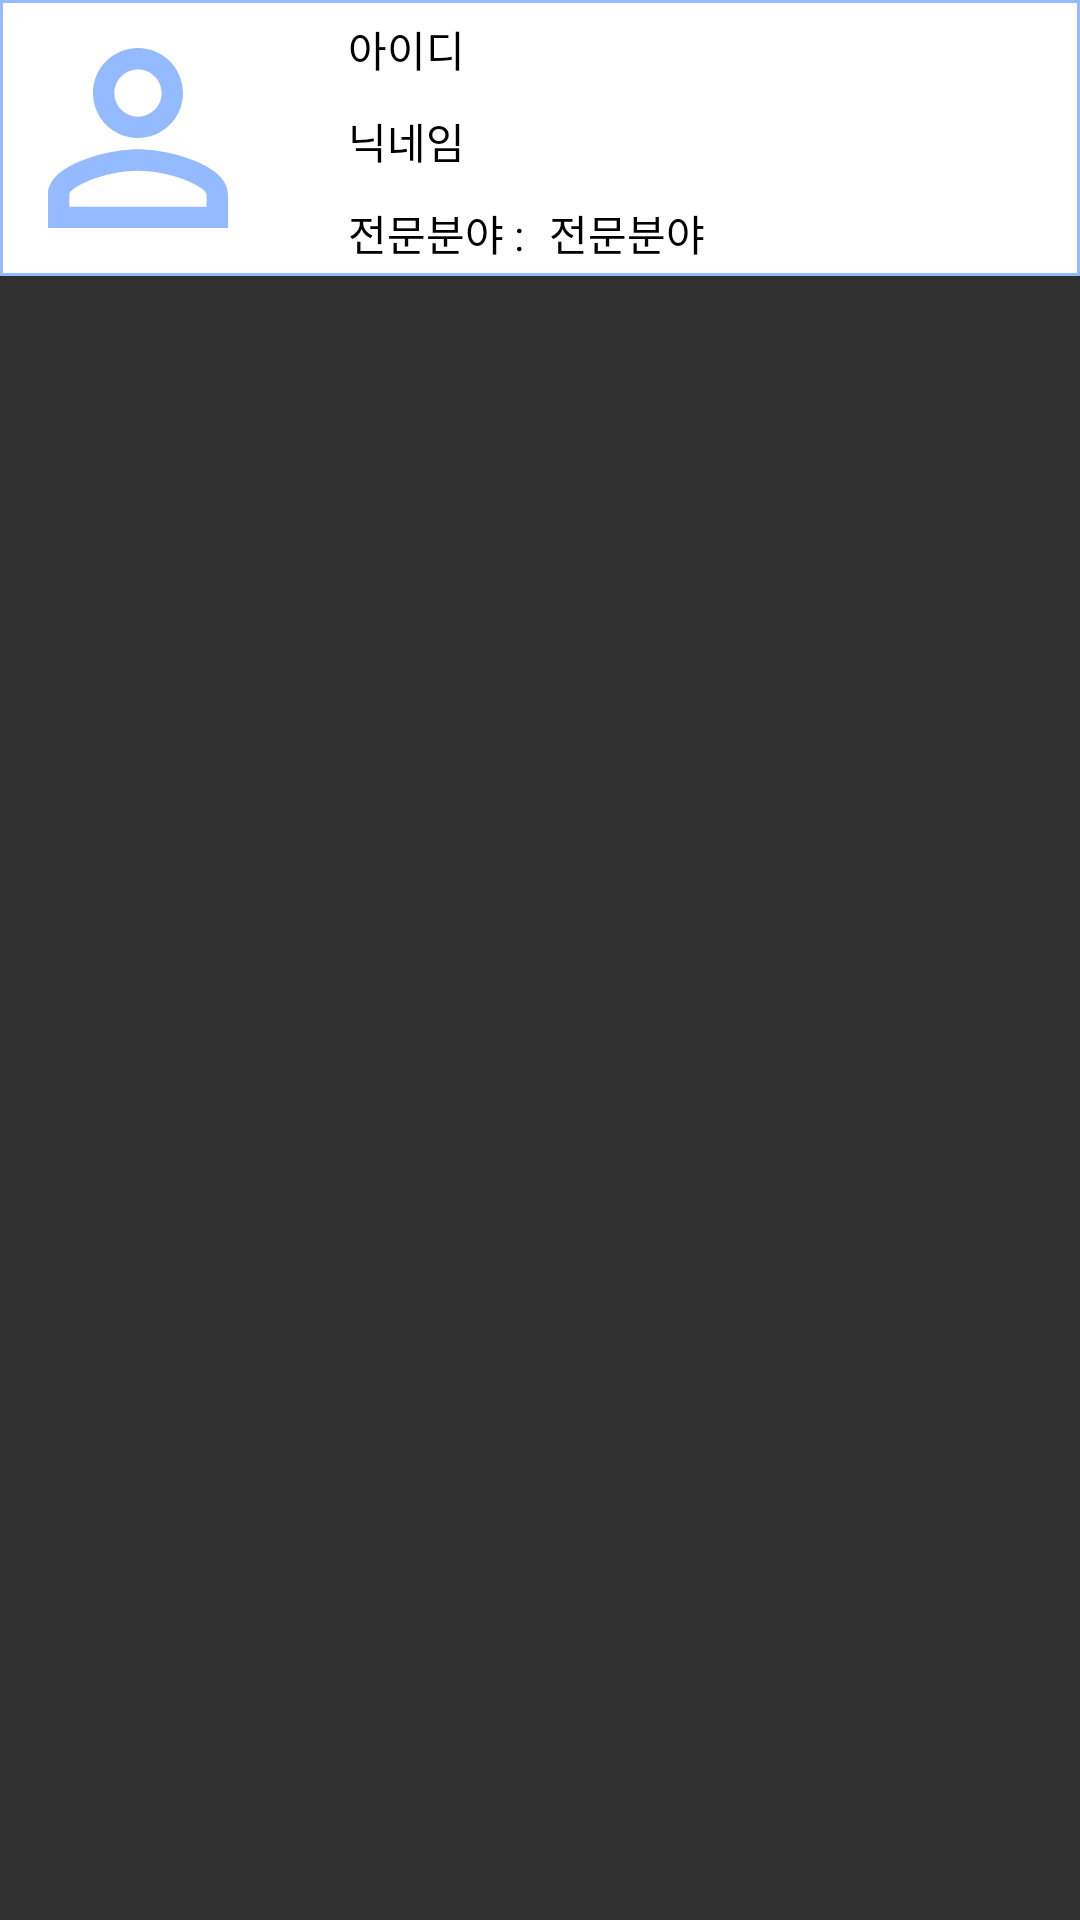

Named icons in this screenshot (1080*1920) and their centers, (x,y):
perm identity: (138,138)
